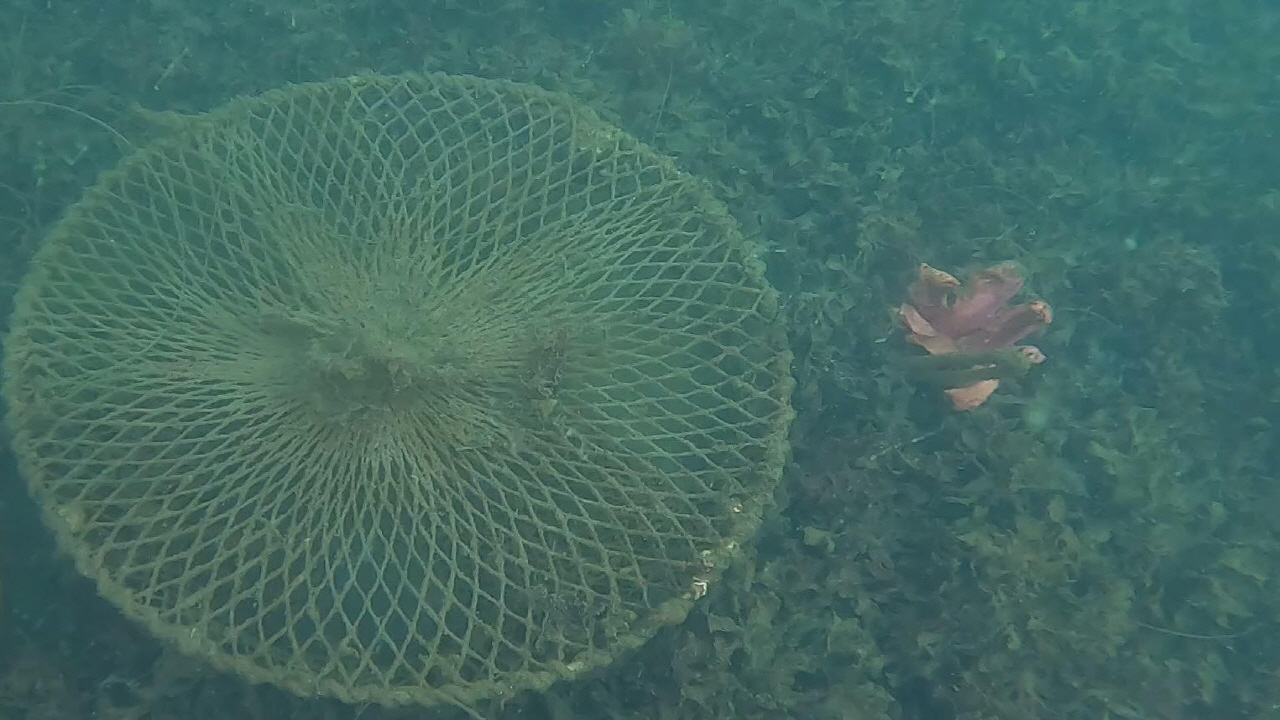circular fish trap: (0, 68, 791, 704)
